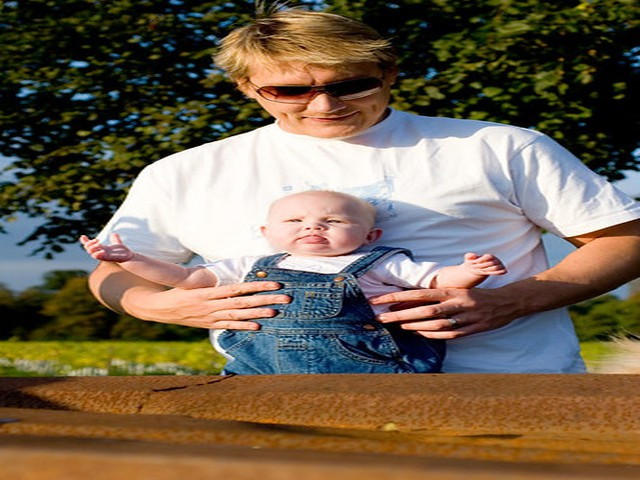Person: (84, 18, 625, 375)
